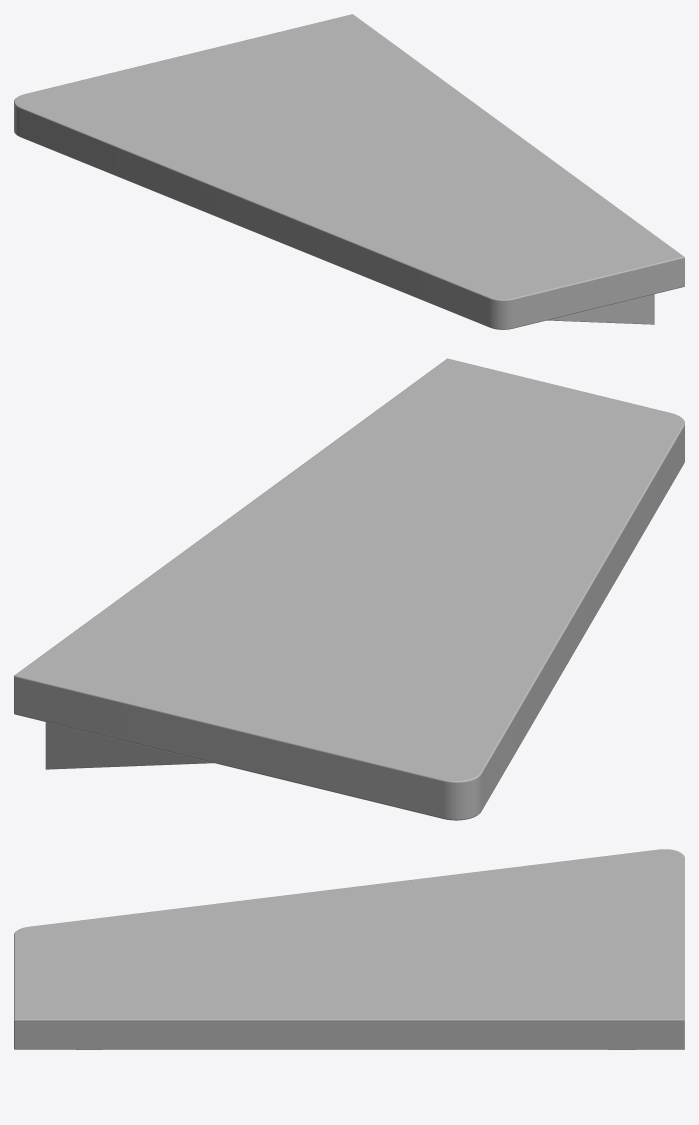
File: ElementSolo_Stool_Table.glb
3 renders of one model, top to bottom at view 1: azimuth 30°, elevation 25°; view 2: azimuth 150°, elevation 25°; view 3: azimuth 270°, elevation 25°, orthographic. The views are drawn at different scales.
Parts seen in each view (by area): view 1: Table.001; view 2: Table.001; view 3: Table.001.
Boxes of the visible parts, left/top/right/bottom form: Table.001: left=14, top=14, right=684, bottom=329; Table.001: left=14, top=358, right=684, bottom=820; Table.001: left=14, top=849, right=684, bottom=1049.
Bounding box in the file's own units: 0.301 × 0.075 × 0.5.
1 material, 1 textured.
